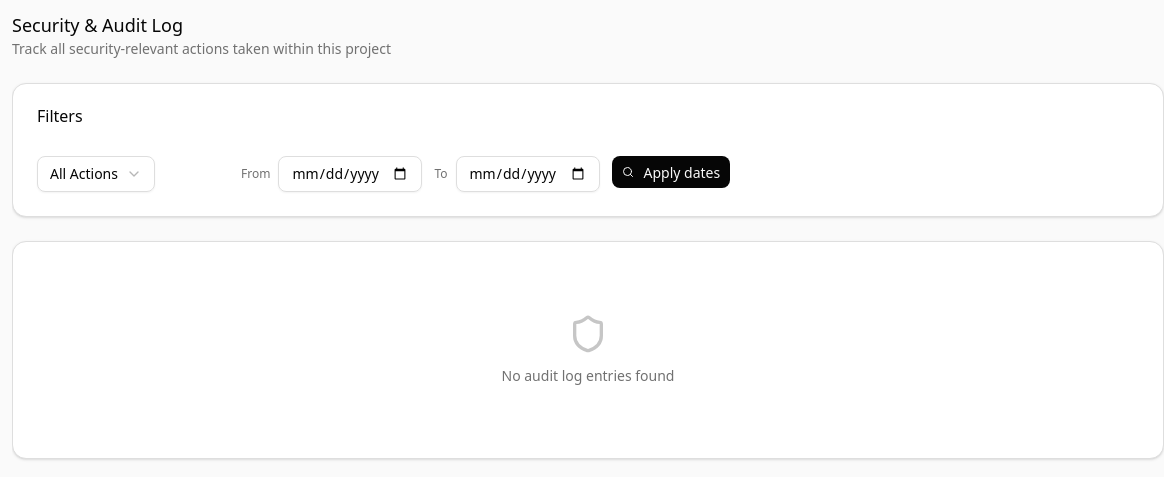
Test: ProjectSecurityTab › Filters › shows Clear button only when filters are active
Expected: the button "clear" is not shown
Note: Apply a date filter
Type "2026-03-01" into the date field labelled "From" at point(350, 174), box [278, 156, 422, 192]
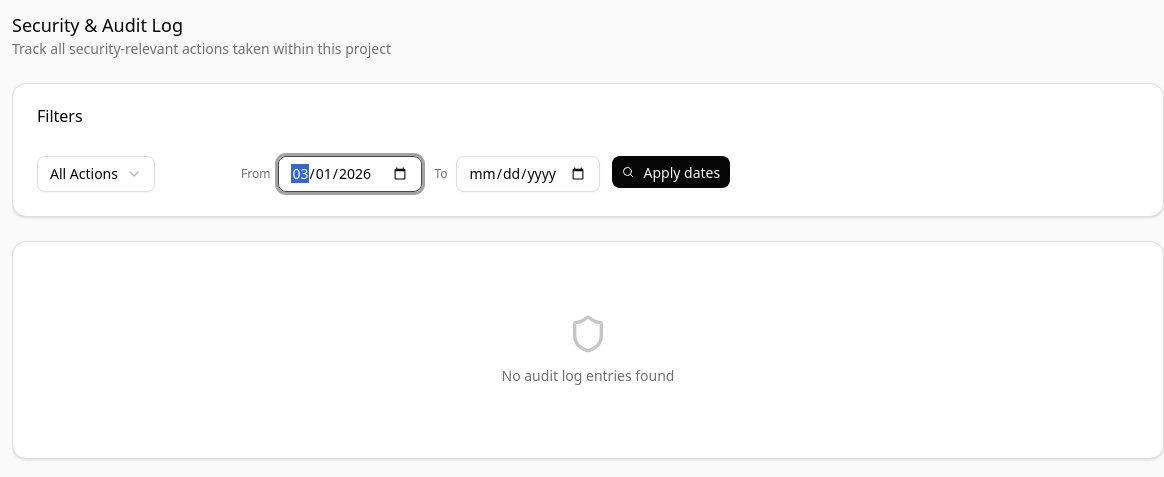
Click the button "Apply dates" at point(671, 172), box [612, 156, 730, 188]
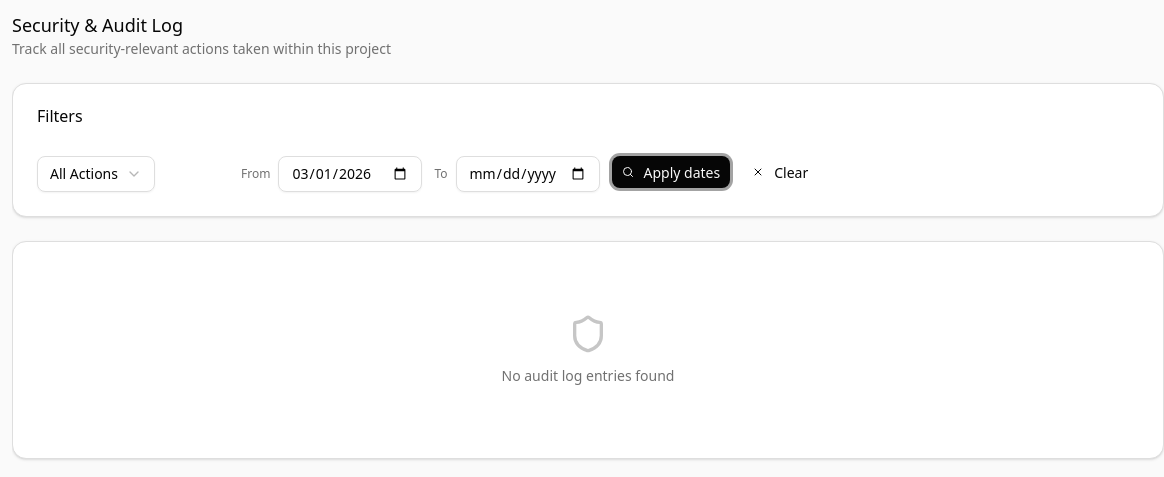
Expected: the button "Clear" is shown, [742, 156, 818, 188]
